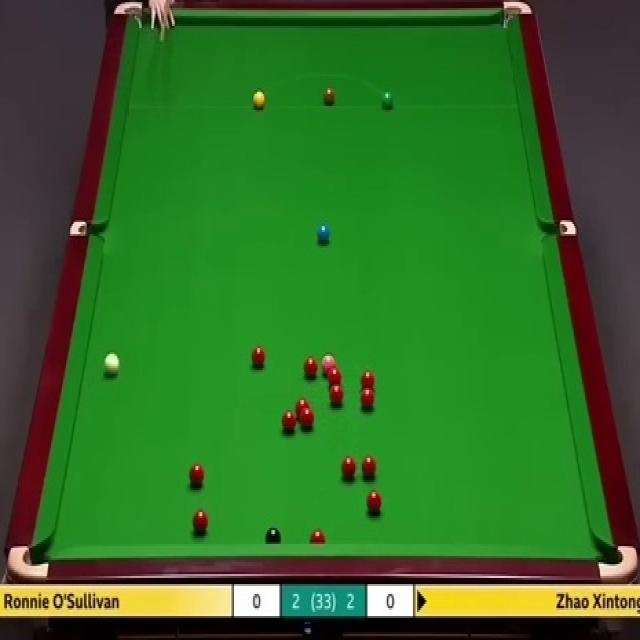black-ball: (266, 528, 282, 544)
blue-ball: (316, 225, 331, 242)
brown-ball: (324, 88, 335, 106)
green-ball: (380, 88, 395, 110)
pink-ball: (321, 354, 336, 374)
red-ball: (192, 511, 209, 534), (325, 366, 342, 389), (358, 387, 375, 409), (340, 456, 357, 478), (367, 490, 382, 514), (301, 358, 319, 378), (281, 409, 296, 433), (361, 455, 376, 479), (251, 343, 266, 366), (188, 464, 205, 484), (330, 385, 344, 409), (360, 369, 375, 391), (296, 398, 309, 418), (301, 408, 314, 428), (309, 529, 327, 543)
white-ball: (102, 352, 121, 379)
yellow-ball: (253, 90, 265, 110)
